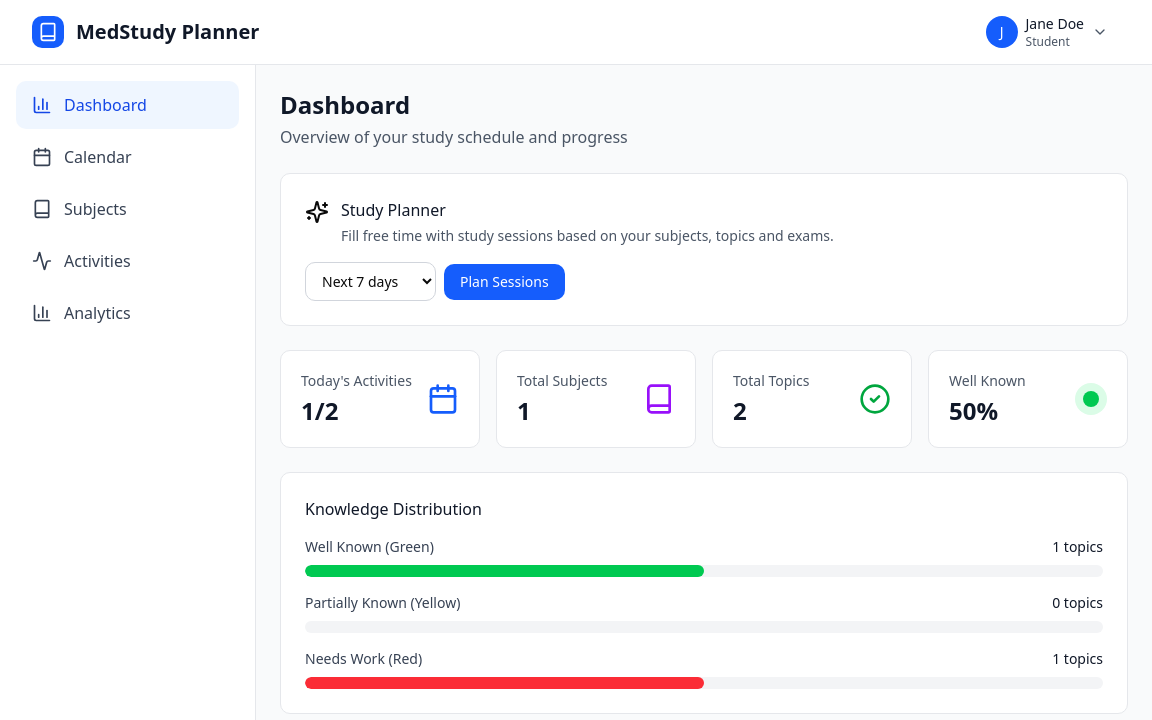
Test: AnalyticsView (student) › summarizes completion, study time and knowledge with recommendations
Expected: the heading "Dashboard" is shown, [280,88,410,121]
Click the button "Analytics" at [128, 313], box [16,289,239,337]
(page scrolled)
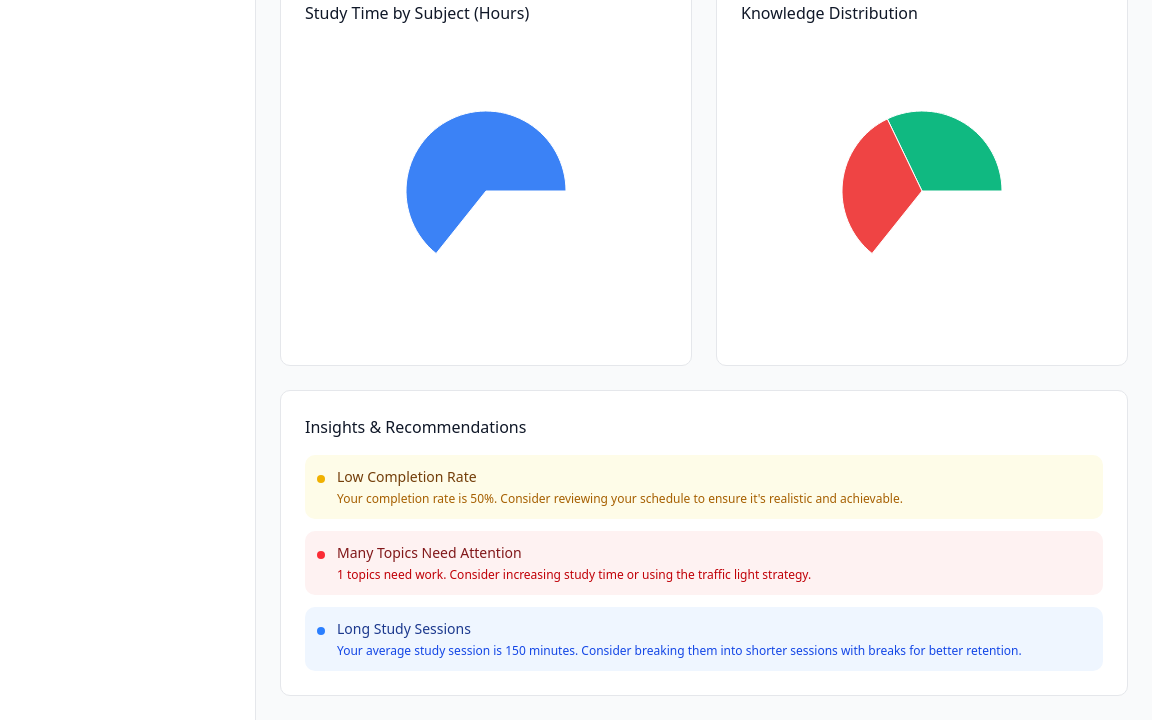
Now the text "Low Completion Rate" is shown, box [337,467,477,486]
Now the text "Many Topics Need Attention" is shown, box [337,543,522,562]
Now the text "Long Study Sessions" is shown, box [337,619,471,638]
